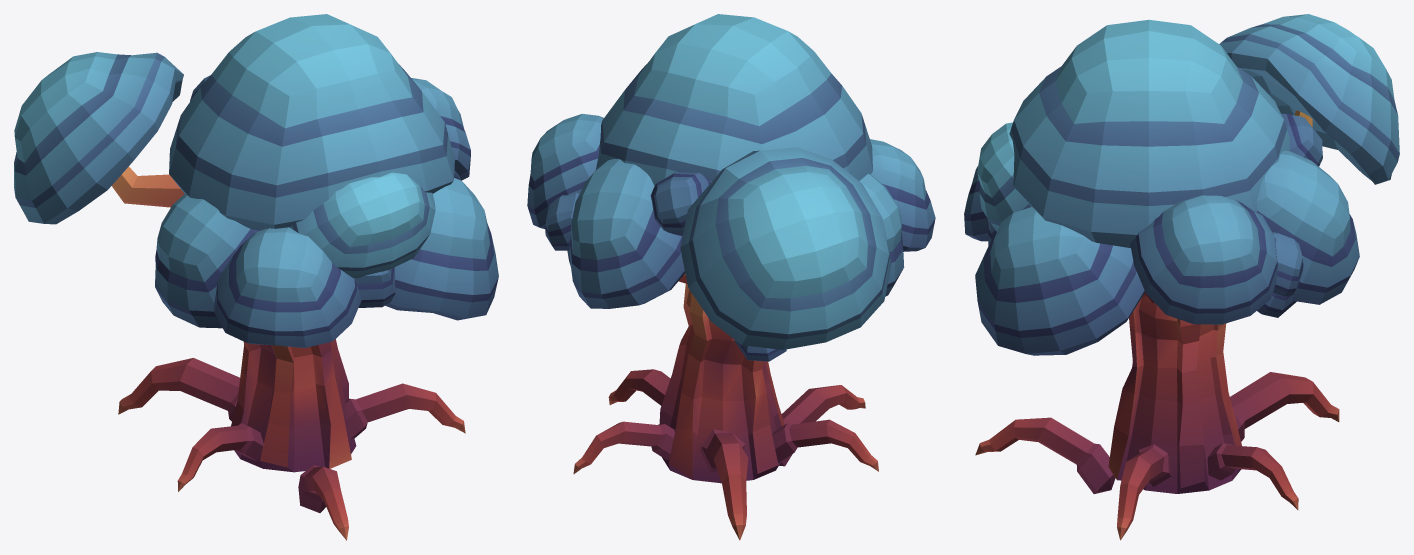
Rendered from Tree_Large_B.fbx.
3 views of the same model, side by side, from view 1: azimuth 30°, elevation 25°; view 2: azimuth 150°, elevation 25°; view 3: azimuth 270°, elevation 25° (orthographic). The views are drawn at different scales.
Parts seen in each view (by area): view 1: Tree_Large_B; view 2: Tree_Large_B; view 3: Tree_Large_B.
Boxes of the visible parts, box(x1,y1,x2,y2) form: Tree_Large_B: box(14, 14, 498, 540); Tree_Large_B: box(527, 14, 935, 540); Tree_Large_B: box(964, 14, 1399, 540).
Size of the model in its own units: 279 by 317 by 265.
